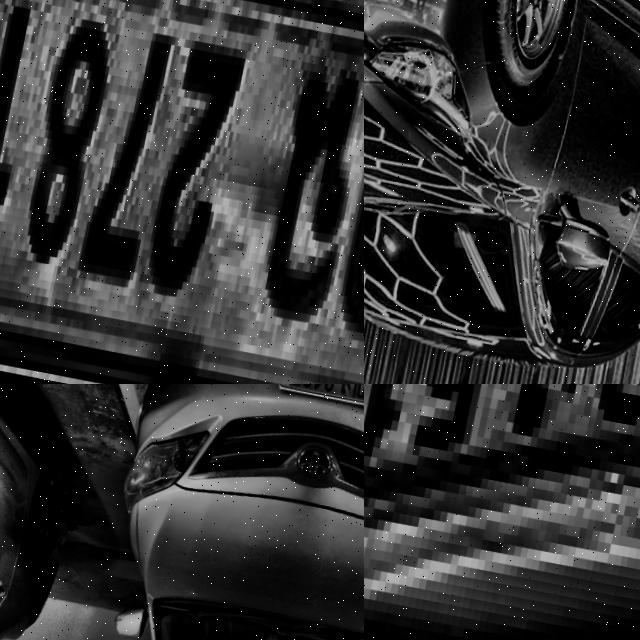license-plate: (0, 0, 364, 384), (364, 384, 640, 640), (275, 384, 364, 404)
